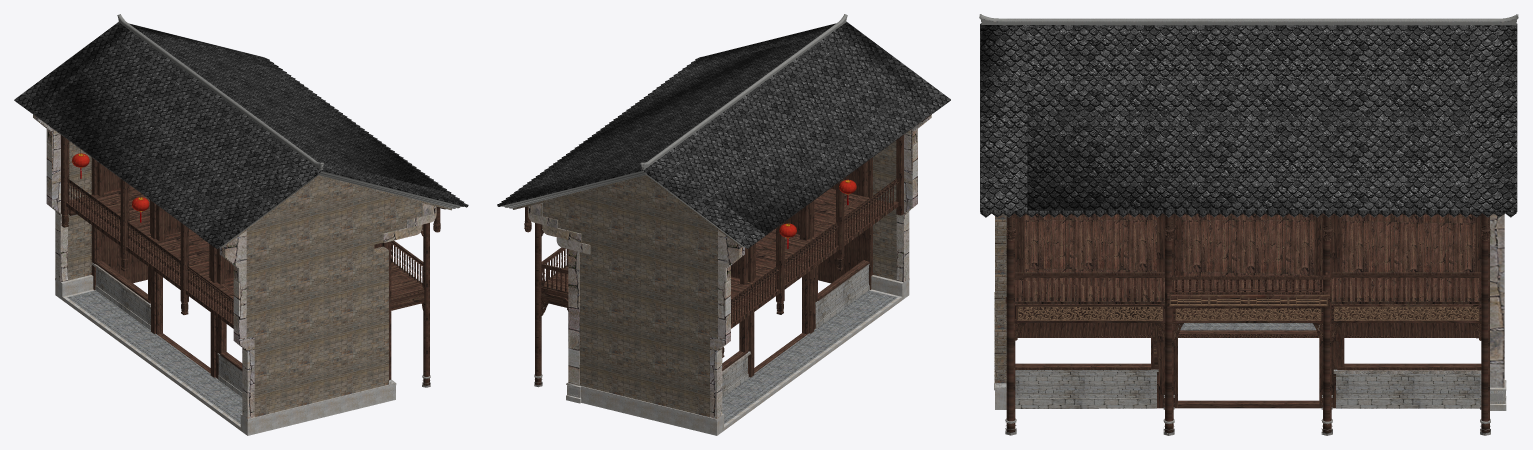
The picture shows the model from 3 angles, left to right: view 1: azimuth 30°, elevation 25°; view 2: azimuth 150°, elevation 25°; view 3: azimuth 270°, elevation 25°; orthographic projection. The views are drawn at different scales.
Visible parts, largest first — view 1: building6; view 2: building6; view 3: building6.
Boxes of the visible parts, <box> form: building6: <box>14,14,468,435</box>; building6: <box>497,14,950,435</box>; building6: <box>979,14,1518,435</box>.
Bounding box in the file's own units: 13.02 × 12.74 × 18.12.
22 materials, 18 textured.
